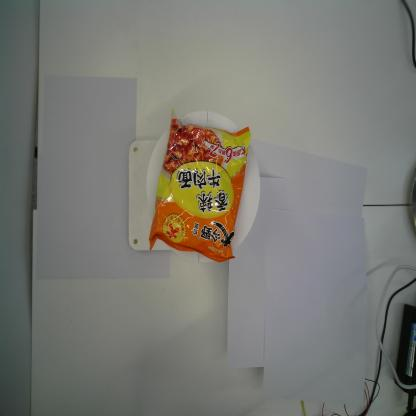Instant Noodles: (148, 108, 252, 263)
